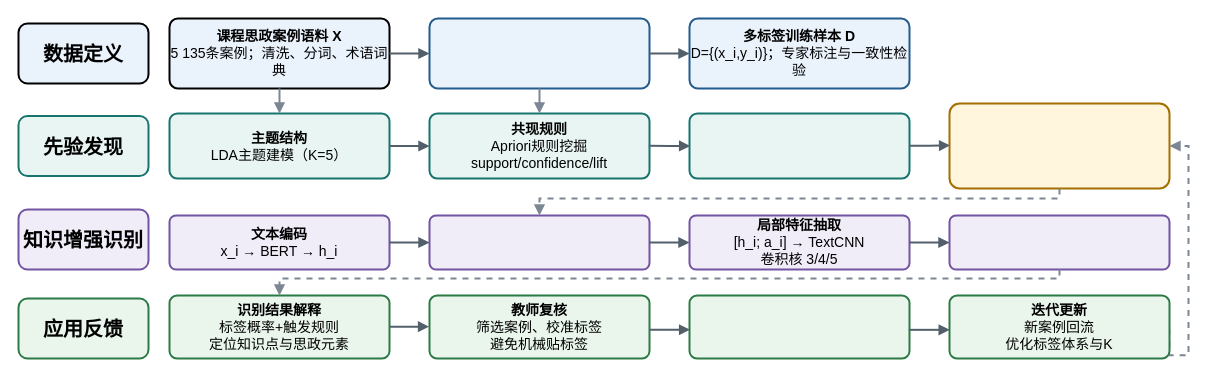
Some shapes in this 1214 by 381 pixel diagram are drawn without their labels. The centre of each missing label's shape, as x and y in pixels:
"先验注入 K → a_i(K) 补充隐性价值线索" goes at pixel 539 242.
"多标签预测 sigmoid(Wz+b) 输出标签概率 y_hat" goes at pixel 1059 242.
"思政元素标签体系 Y 五个一级维度；10个二级标签" goes at pixel 539 53.
"教学设计 导入、案例讲解 课后实践任务" goes at pixel 799 326.
"语义映射 Word2vec + K-means标签归类" goes at pixel 799 145.
"领域先验知识 K K={专业术语, 思政标签, 关联规则} 形成可解释知识约束" goes at pixel 1059 145.
